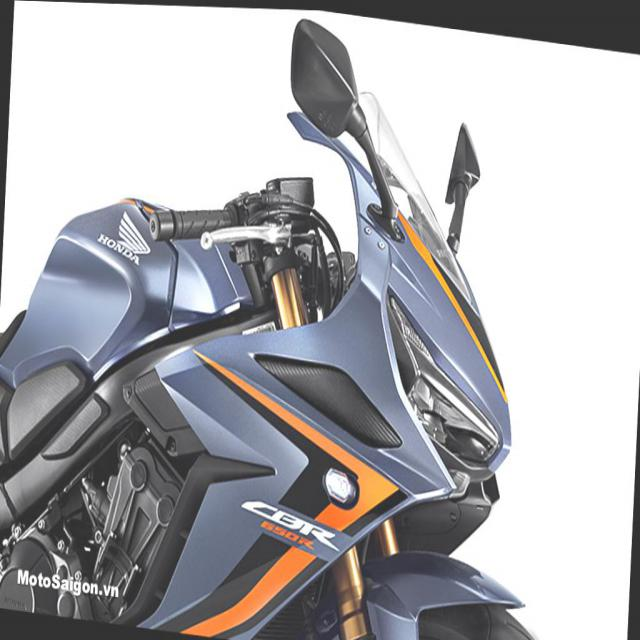CBR650R: (0, 0, 596, 639)
